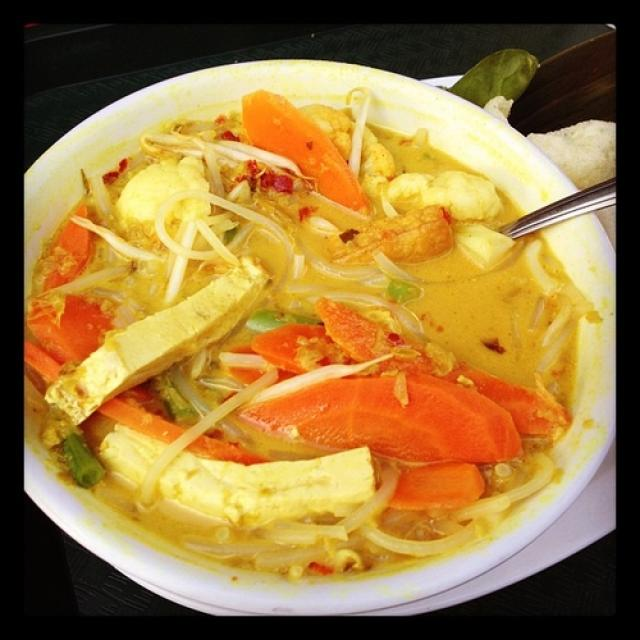面条主食: (30, 60, 613, 599)
